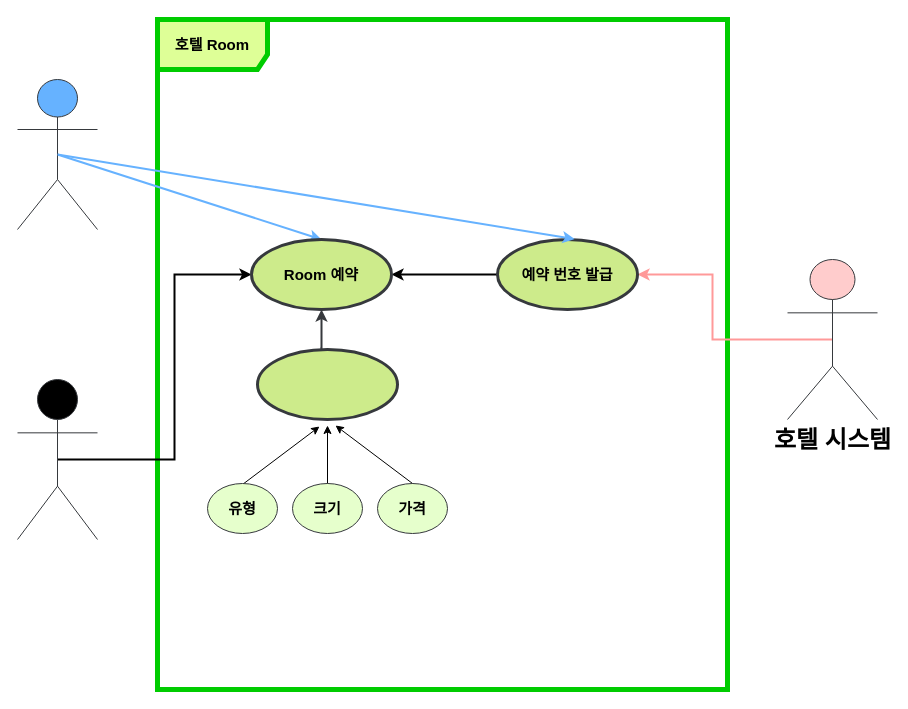
The diagram is 908 pixels wide and 709 high, and some of its shapes have lost their labels. The shapes that lost their labels are listed below. From the top down, each one's centre as x and y in pixels, then its label:
the point at 57,154: 사용자
the point at 327,384: Room 옵션 선택
the point at 57,459: 고객
